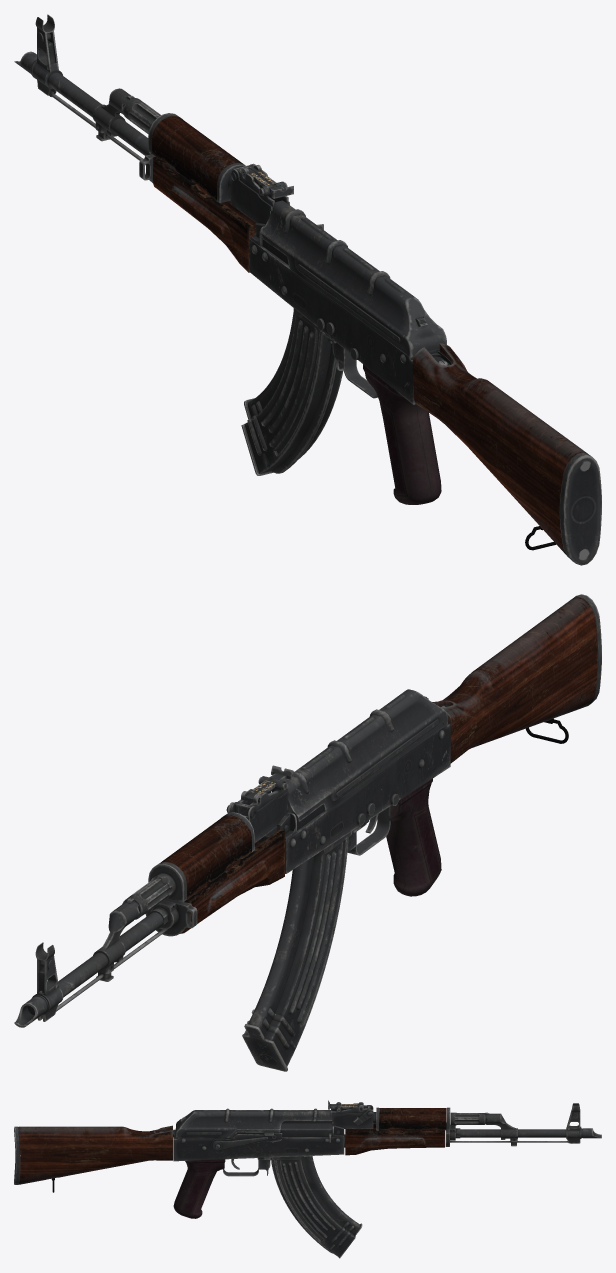
3 renders of one model, top to bottom at view 1: azimuth 30°, elevation 25°; view 2: azimuth 150°, elevation 25°; view 3: azimuth 270°, elevation 25°, orthographic. The views are drawn at different scales.
Visible parts, largest first — view 1: ak47; view 2: ak47; view 3: ak47.
Boxes of the visible parts, box(x1,y1,x2,y2) form: ak47: box(14, 14, 601, 565); ak47: box(14, 594, 601, 1071); ak47: box(14, 1100, 601, 1258).
Bounding box in the file's own units: 0.0623 × 0.2515 × 0.88.
1 material, 1 textured.
